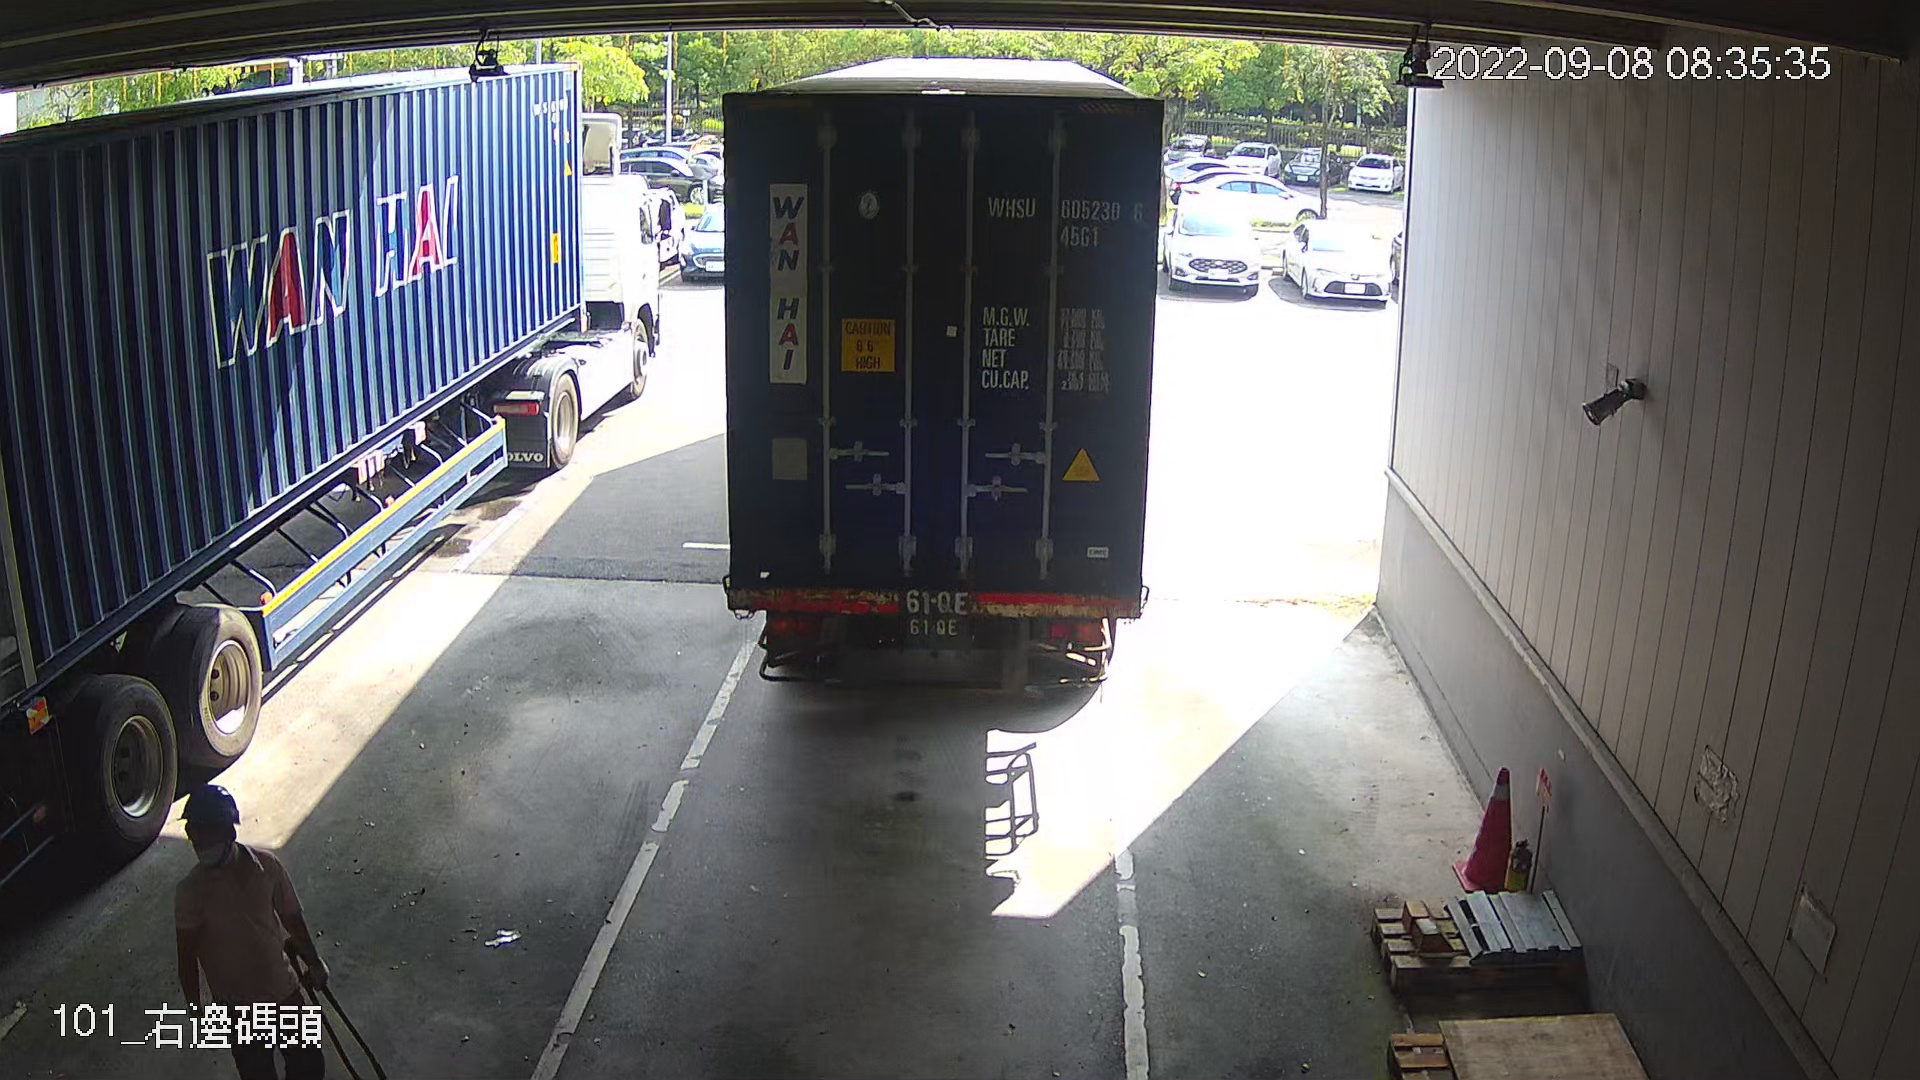container: (978, 183, 1149, 255)
